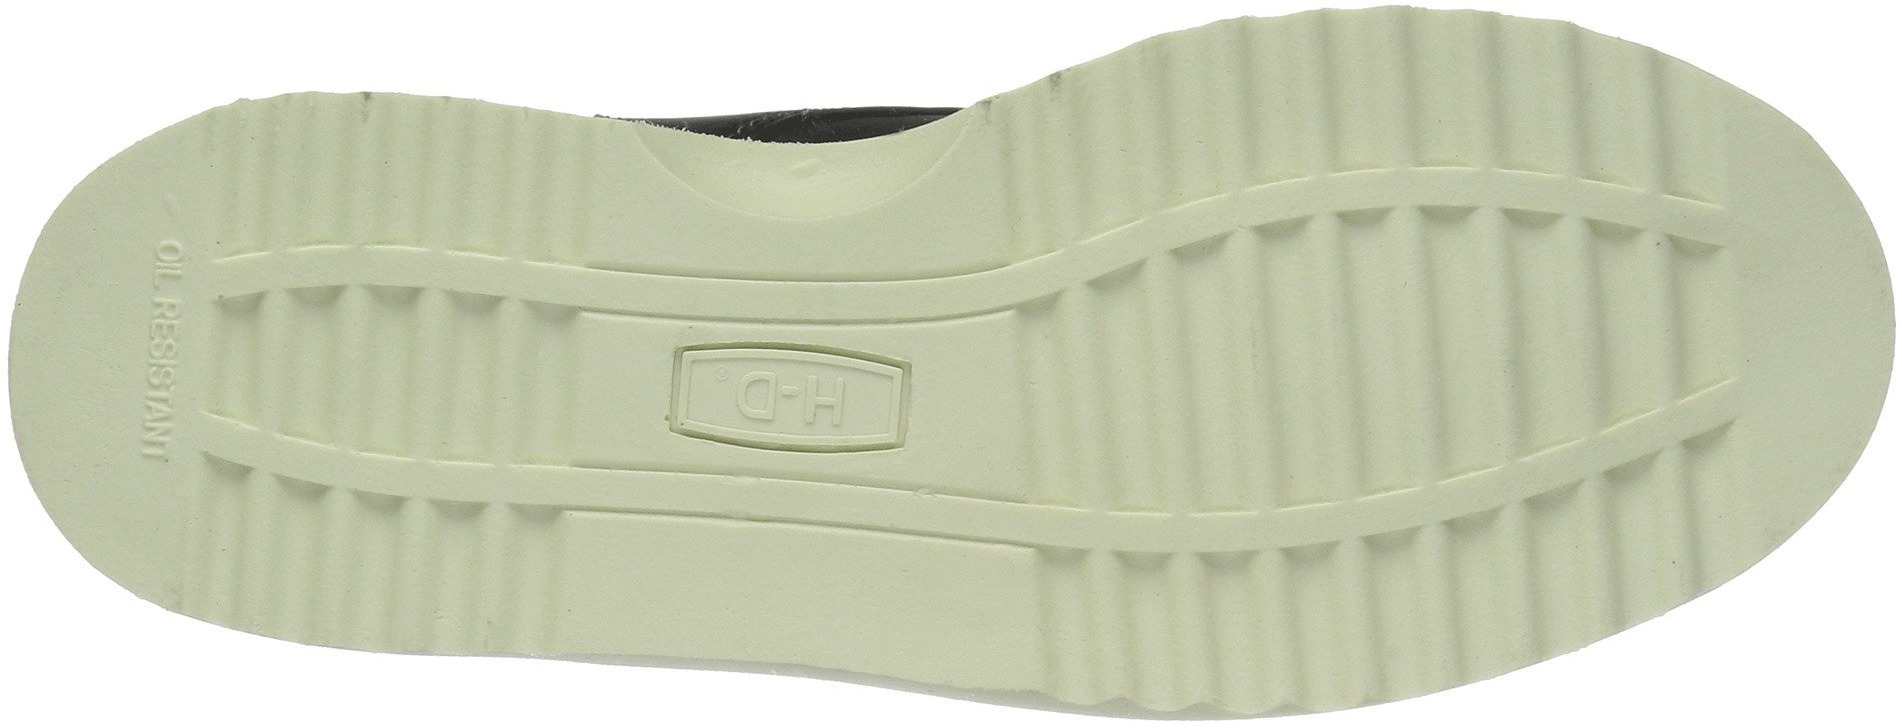line: (1448, 135, 1786, 496), (252, 169, 605, 507), (1137, 11, 1440, 339), (973, 288, 1212, 542)
quad: (1448, 135, 1786, 496), (252, 169, 605, 507), (1137, 11, 1440, 339), (973, 288, 1212, 542), (666, 336, 924, 463)
text: (666, 336, 924, 463), (724, 369, 861, 433)
